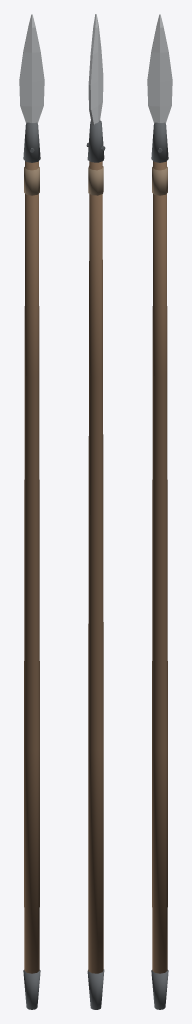
The model's file is weapon_spear.glb.
3 views of the same model, side by side, from view 1: azimuth 90°, elevation 25°; view 2: azimuth 150°, elevation 25°; view 3: azimuth 270°, elevation 25° (orthographic).
Parts seen in each view (by area): view 1: weapon_spear; view 2: weapon_spear; view 3: weapon_spear.
Part boxes in pixels (x1=…): weapon_spear: x1=19, y1=14, x2=44, y2=1009; weapon_spear: x1=86, y1=14, x2=105, y2=1009; weapon_spear: x1=147, y1=14, x2=172, y2=1009.
Size of the model in its own units: 0.042 by 2.4 by 0.0554.
